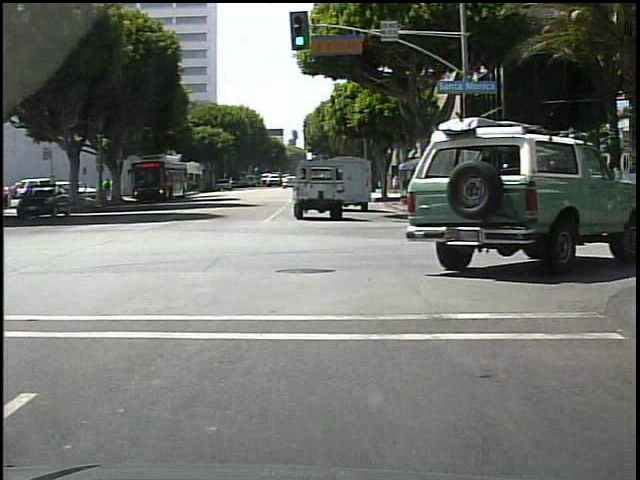person: (544, 158, 567, 227), (584, 165, 603, 224), (571, 169, 589, 222), (479, 166, 497, 218), (521, 156, 537, 214), (508, 163, 525, 214), (513, 166, 529, 217), (471, 165, 483, 216), (113, 175, 122, 203), (102, 176, 112, 199)
